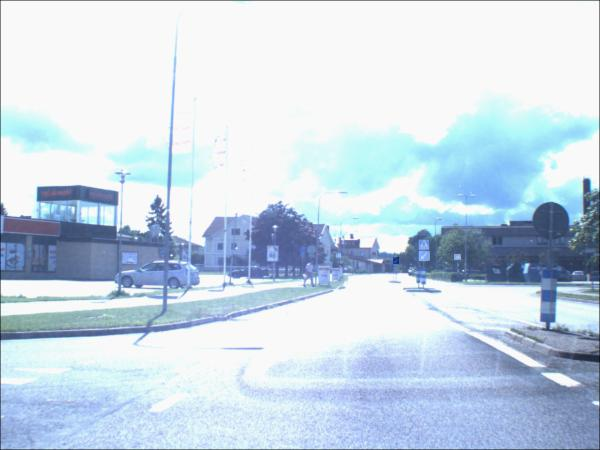PASS_RIGHT_SIDE: (419, 252, 431, 263), (393, 258, 400, 266)
PEDESTRIAN_CROSSING: (419, 241, 430, 252), (454, 255, 462, 262), (336, 255, 342, 261)
PRIORITY_ROAD: (339, 261, 343, 267)
